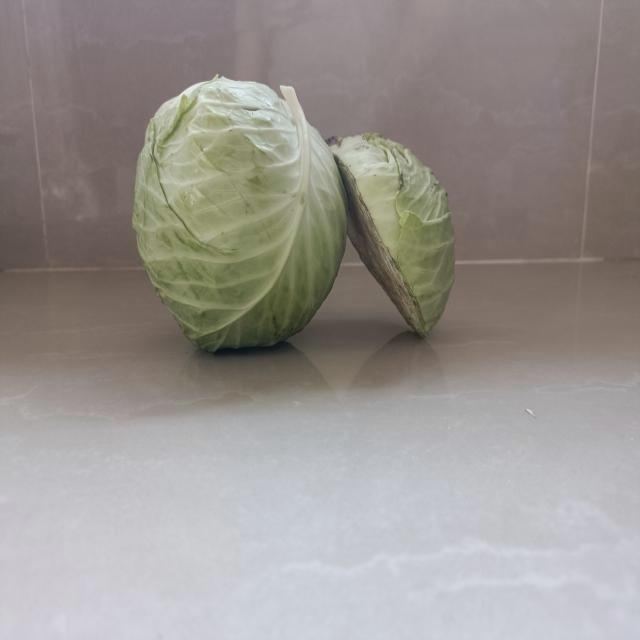cabbage: (130, 76, 348, 353), (328, 129, 457, 344)
